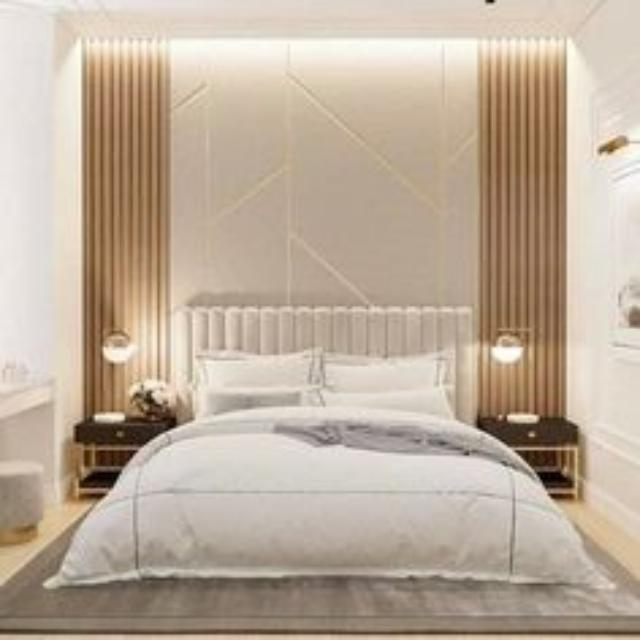bed: (48, 306, 606, 586)
chair: (0, 460, 44, 543)
curtain: (82, 40, 170, 418), (479, 40, 565, 417)
lamp: (490, 329, 534, 423), (102, 331, 132, 364)
rug: (0, 528, 640, 639)
table: (75, 422, 174, 496), (484, 422, 578, 498)
